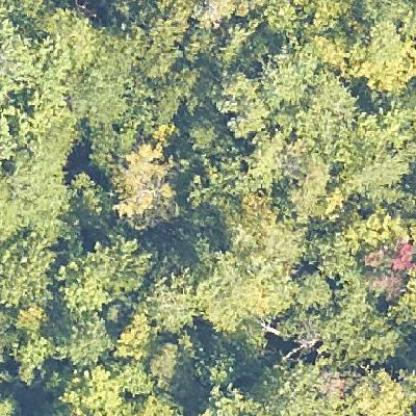tree-top: (192, 245, 296, 328), (51, 234, 157, 312), (346, 0, 413, 102), (333, 112, 409, 192), (107, 142, 178, 226), (251, 350, 342, 415), (320, 301, 401, 366), (70, 50, 133, 120), (211, 69, 272, 136), (58, 363, 133, 415), (47, 308, 113, 365), (346, 362, 411, 412), (207, 21, 268, 71), (361, 238, 413, 296), (192, 336, 249, 388), (142, 280, 200, 329), (69, 165, 111, 225), (146, 338, 188, 393), (182, 114, 225, 155), (290, 270, 334, 308)
